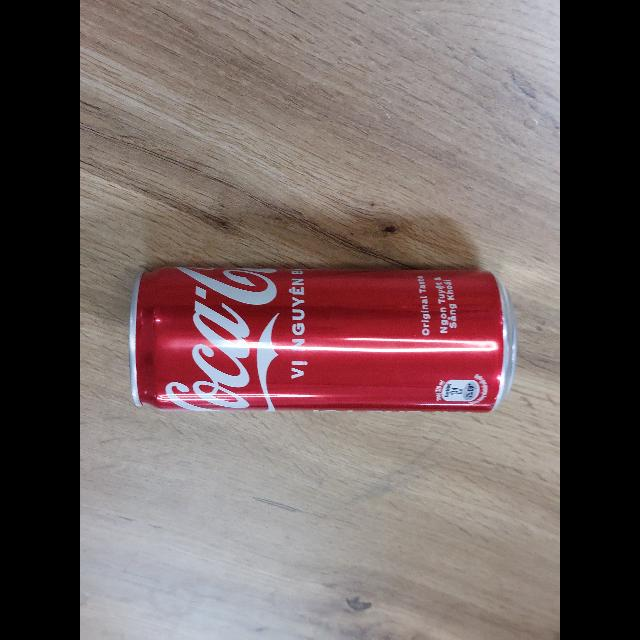coca_cola: (127, 262, 518, 412)
